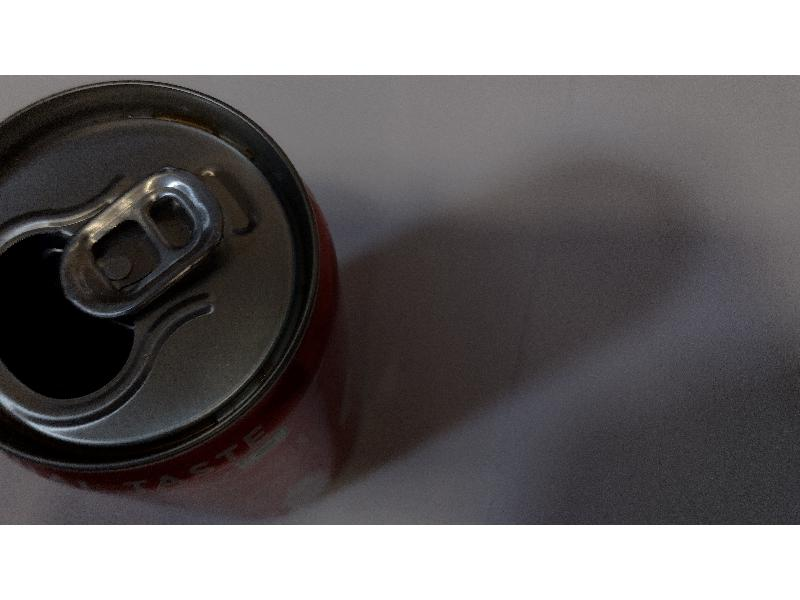can: (0, 72, 342, 520)
